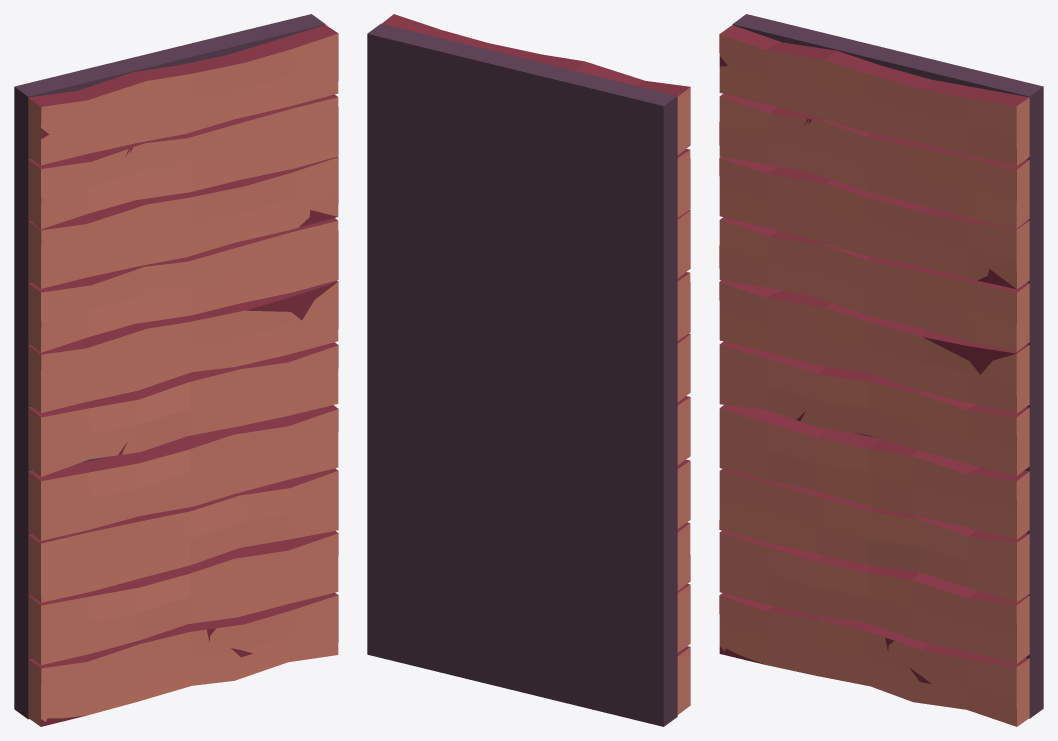
The model's file is wall_wst_Side.glb.
The picture shows the model from 3 angles, left to right: view 1: azimuth 30°, elevation 25°; view 2: azimuth 150°, elevation 25°; view 3: azimuth 330°, elevation 25°; orthographic projection.
Parts seen in each view (by area): view 1: Cube.018, Cube.015; view 2: Cube.015, Cube.018; view 3: Cube.018, Cube.015.
Part boxes in pixels (x1,y1,x2,y2): Cube.018: [28, 25, 338, 726]; Cube.015: [14, 14, 325, 719]; Cube.015: [367, 23, 677, 726]; Cube.018: [382, 14, 690, 714]; Cube.018: [719, 25, 1029, 726]; Cube.015: [732, 14, 1043, 718].
Bounding box in the file's own units: 1 × 2 × 0.1578.
Materials: 1 (1 with a texture image).
